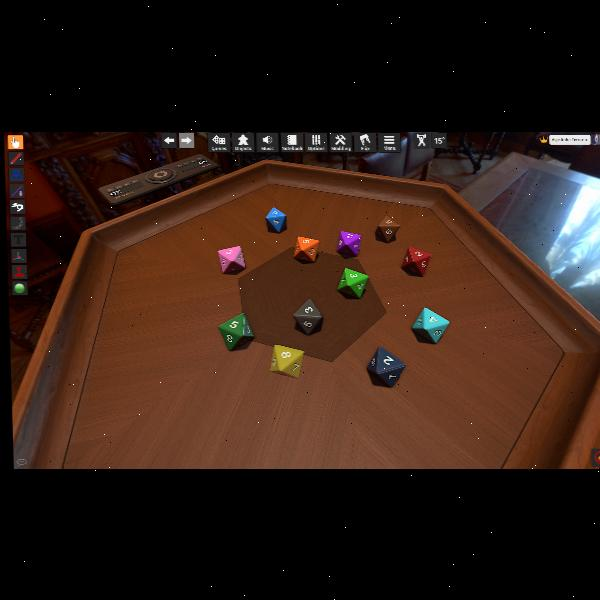d8: (366, 346, 403, 388), (219, 312, 254, 350), (411, 308, 448, 342), (269, 344, 304, 378), (293, 300, 323, 334), (336, 268, 366, 298), (400, 246, 429, 276), (217, 246, 244, 274), (292, 235, 318, 262), (336, 230, 361, 256), (376, 218, 398, 242), (266, 208, 287, 232)
